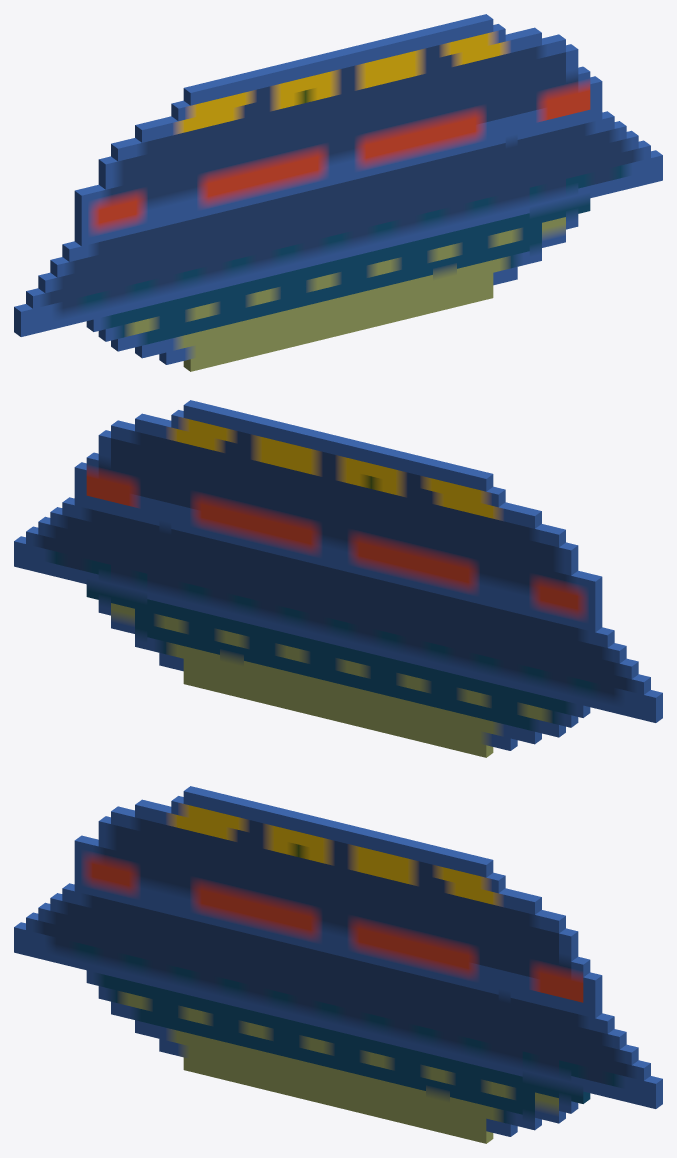
File: Matrix.dae
The picture shows the model from 3 angles, top to bottom: view 1: azimuth 30°, elevation 25°; view 2: azimuth 150°, elevation 25°; view 3: azimuth 330°, elevation 25°; orthographic projection.
Parts seen in each view (by area): view 1: Matrix; view 2: Matrix; view 3: Matrix.
Part boxes in pixels (x1,y1,x2,y2): Matrix: (14,14,662,371); Matrix: (14,400,662,757); Matrix: (14,786,662,1143).
Bounding box in the file's own units: 53 × 22 × 1.
1 material, 1 textured.
